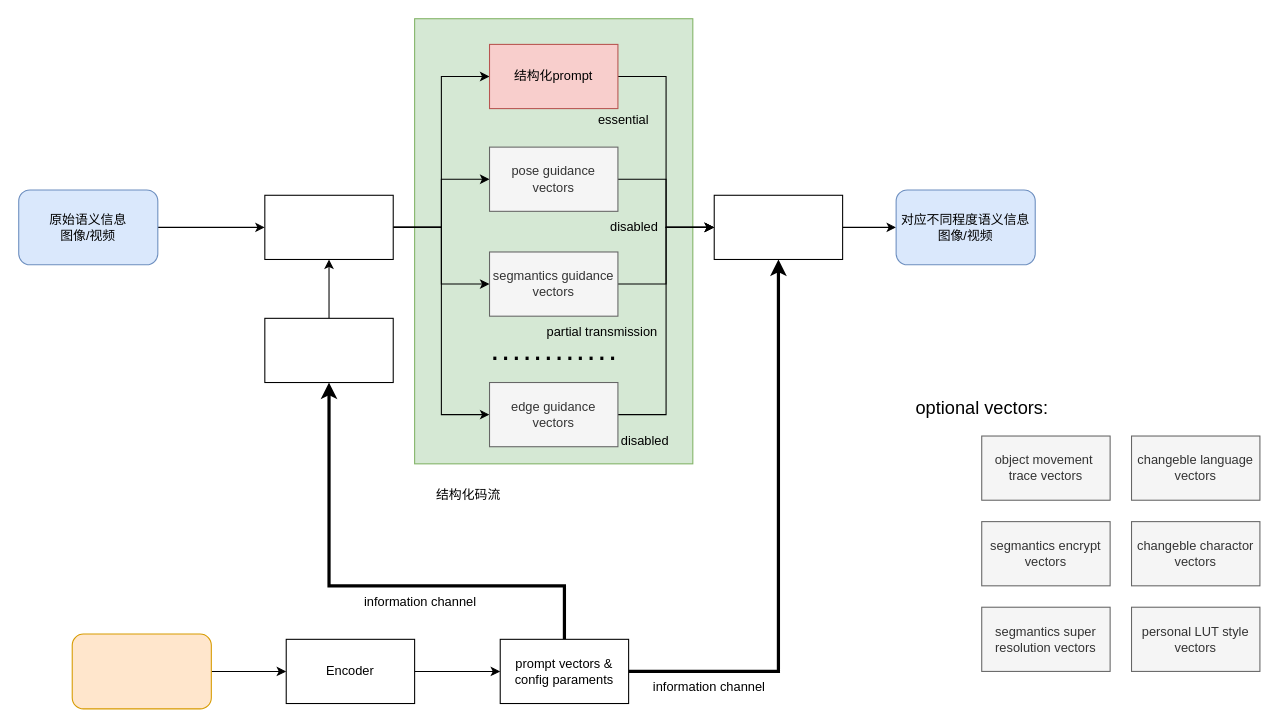
Some shapes in this 1279 by 728 pixel diagram are drawn without their labels. Here are the shapes that lost their labels. From the top down, the centre of each, then its label:
At [328,226]: "编码器".
At [778,226]: "生成式解码器".
At [328,350]: "prompt receiver & decoder".
At [141,671]: "用户prompt 用户需求参数".
